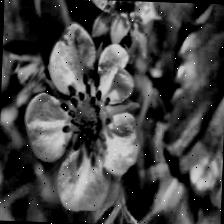Blossom Blight: (56, 70, 115, 154), (94, 0, 152, 26)
